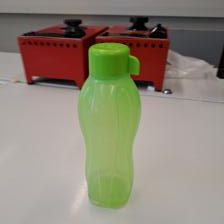bottle: (77, 40, 141, 208)
